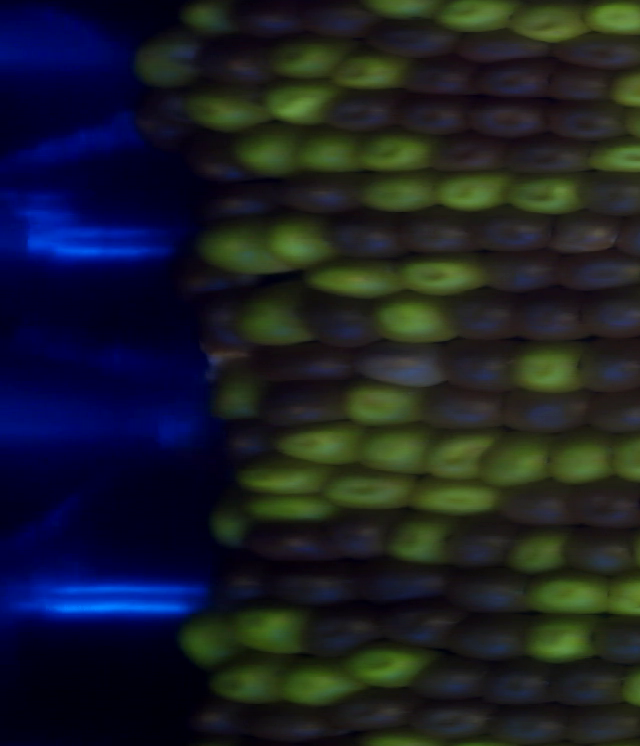fluorescent: (190, 216, 292, 282), (335, 634, 449, 691), (363, 287, 465, 350), (230, 444, 345, 499), (298, 252, 414, 305), (318, 461, 427, 517), (401, 471, 516, 524), (338, 371, 433, 435), (520, 563, 624, 621), (171, 603, 252, 677), (350, 414, 439, 481), (473, 424, 562, 491), (232, 286, 317, 356), (415, 421, 507, 485), (268, 414, 370, 471), (258, 207, 343, 275), (227, 598, 320, 660), (225, 118, 311, 185), (502, 337, 595, 398), (389, 249, 500, 300), (276, 655, 372, 713), (516, 607, 605, 668), (200, 648, 292, 707), (176, 81, 271, 138), (125, 27, 203, 96), (253, 72, 341, 132), (381, 508, 464, 571), (544, 425, 623, 490), (348, 125, 443, 179), (265, 33, 361, 85), (497, 521, 581, 580), (354, 164, 444, 219), (498, 168, 589, 221), (235, 487, 355, 527), (499, 1, 596, 49), (430, 167, 523, 217), (290, 123, 371, 180), (322, 50, 418, 95), (208, 359, 266, 429), (429, 1, 533, 39), (198, 493, 258, 552), (170, 1, 242, 45), (582, 131, 640, 179), (575, 1, 640, 41), (605, 421, 640, 489), (357, 1, 448, 26), (600, 565, 640, 620), (607, 62, 640, 116)
nonfluorescent: (161, 234, 264, 305), (289, 284, 392, 354), (252, 334, 371, 394), (431, 333, 528, 402), (256, 555, 368, 613), (436, 504, 527, 574), (348, 334, 454, 394), (490, 382, 600, 439), (190, 25, 277, 97), (238, 692, 353, 746), (249, 375, 356, 433), (503, 284, 598, 349), (315, 501, 410, 566), (333, 553, 454, 604), (235, 513, 343, 570), (415, 378, 518, 436), (394, 691, 507, 743), (486, 473, 582, 534), (296, 605, 394, 664), (273, 166, 378, 221), (201, 545, 284, 614), (447, 19, 558, 70), (369, 599, 469, 655), (465, 202, 559, 261), (442, 562, 535, 621), (470, 246, 566, 303), (447, 606, 541, 664), (390, 201, 479, 262), (327, 680, 427, 734), (544, 242, 640, 298), (496, 129, 600, 180), (438, 283, 521, 346), (363, 13, 469, 62), (173, 130, 259, 190), (461, 92, 556, 146), (320, 206, 405, 266), (540, 91, 630, 147), (565, 470, 640, 537), (558, 522, 640, 582), (547, 654, 633, 711), (478, 653, 561, 712), (185, 288, 258, 355), (119, 111, 209, 165), (395, 52, 488, 104), (570, 330, 640, 399), (320, 86, 409, 139), (402, 652, 491, 705), (477, 701, 581, 746), (544, 27, 640, 75), (185, 177, 283, 224), (576, 279, 640, 349), (544, 205, 623, 261), (228, 1, 316, 51), (466, 55, 554, 105), (292, 1, 389, 46), (428, 128, 512, 179), (571, 164, 640, 224), (128, 81, 209, 132), (539, 61, 623, 109), (188, 688, 260, 744), (394, 92, 473, 142), (210, 414, 280, 470), (553, 699, 640, 744), (579, 382, 640, 442), (586, 610, 640, 672), (606, 206, 640, 265)
